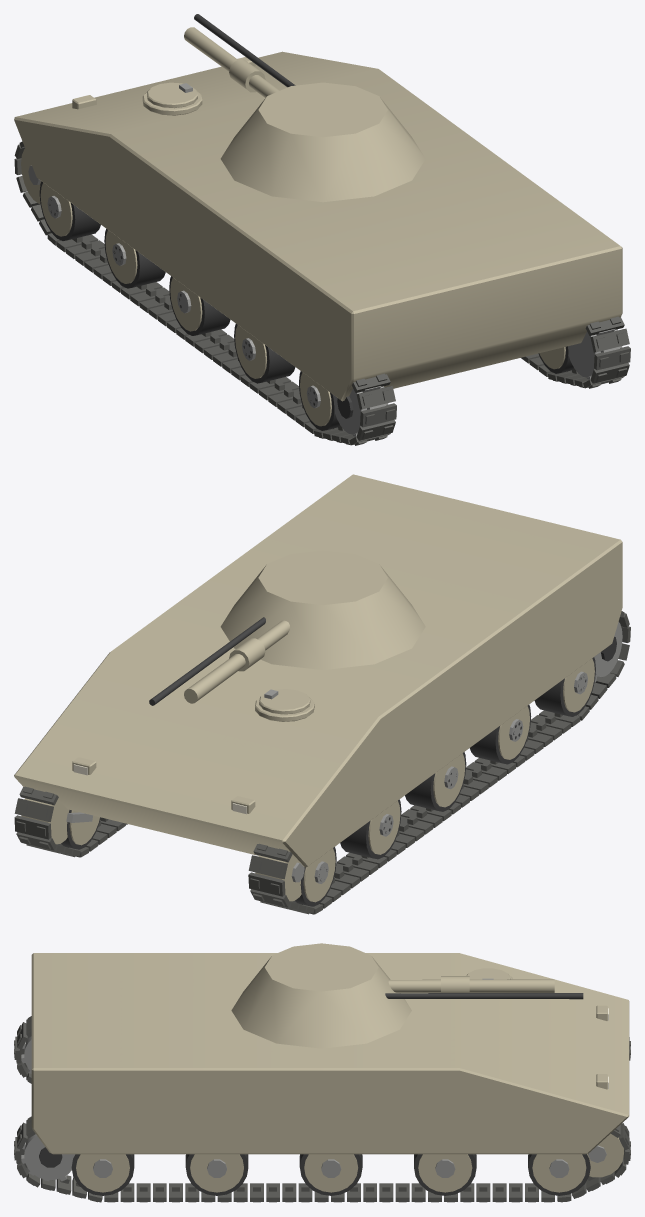
Rendered from rus_ifv_bmd4.glb.
The picture shows the model from 3 angles, top to bottom: view 1: azimuth 30°, elevation 25°; view 2: azimuth 150°, elevation 25°; view 3: azimuth 270°, elevation 25°; orthographic projection. The views are drawn at different scales.
Visible parts, largest first — view 1: body, turret, barrel; view 2: body, turret, barrel; view 3: body, turret, barrel.
Boxes of the visible parts, x1=… form: body: x1=14, y1=51, x2=630, y2=445; turret: x1=220, y1=82, x2=425, y2=202; barrel: x1=184, y1=14, x2=295, y2=97; body: x1=14, y1=474, x2=630, y2=914; turret: x1=220, y1=550, x2=425, y2=669; barrel: x1=149, y1=617, x2=289, y2=705; body: x1=14, y1=953, x2=630, y2=1202; turret: x1=231, y1=943, x2=411, y2=1048; barrel: x1=385, y1=976, x2=583, y2=999.
Bounding box in the file's own units: 2.9 × 2.07 × 6.49.
